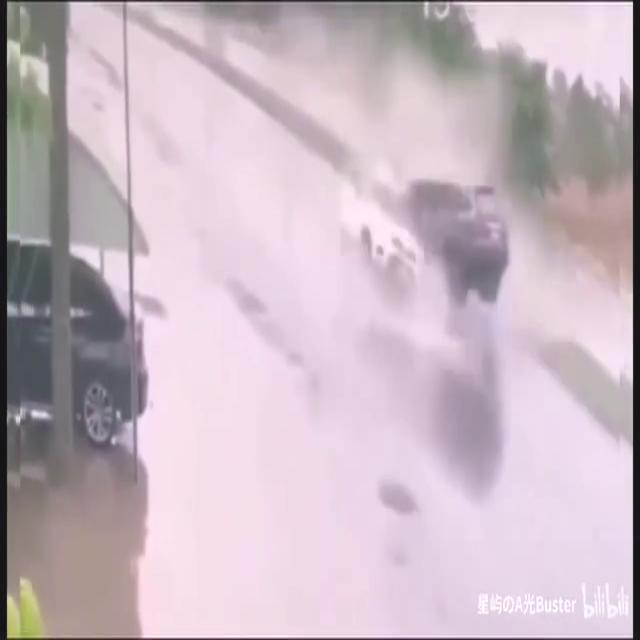accident: (342, 172, 506, 306)
